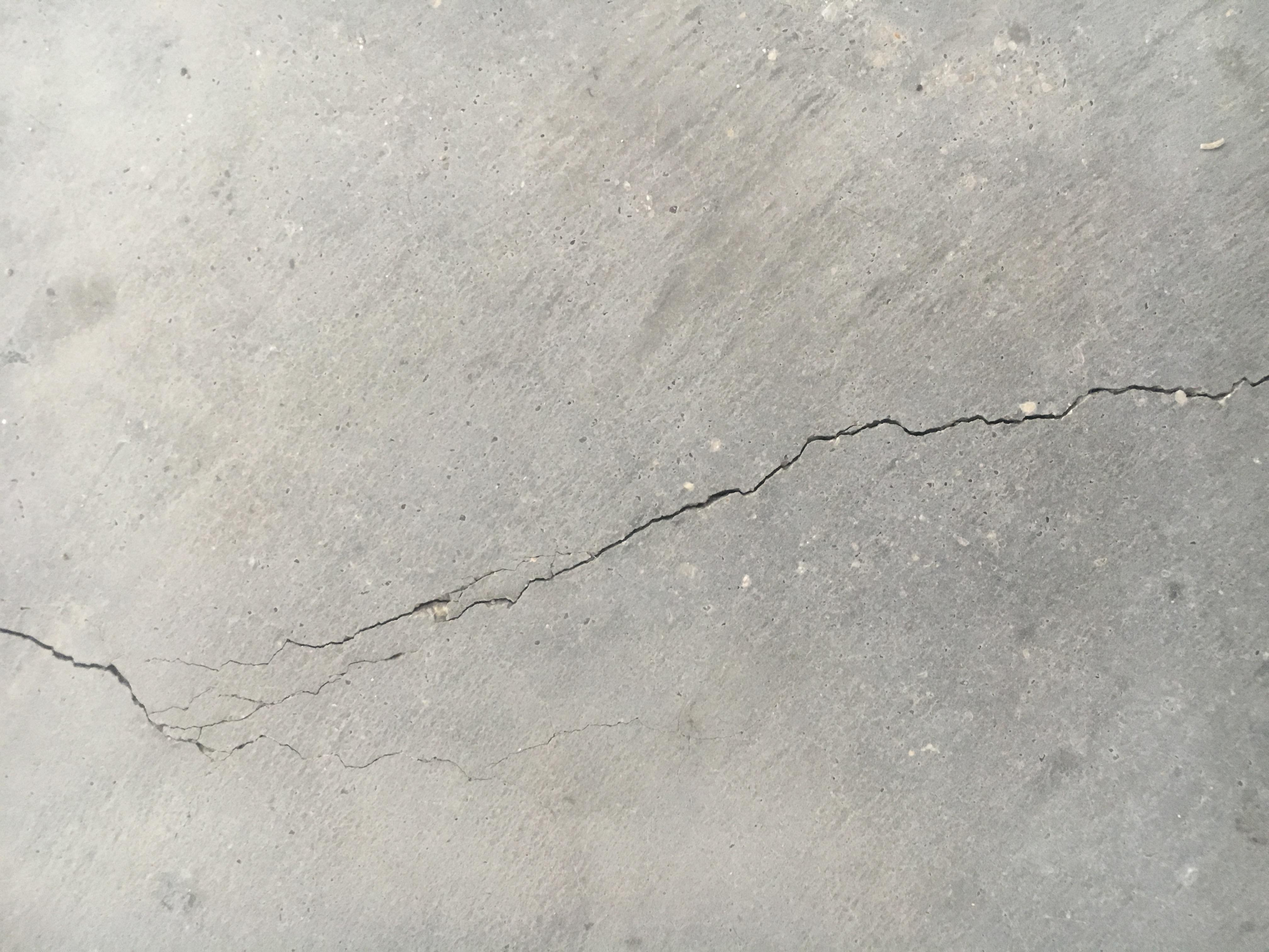Horizontal Settlement Crack: (4, 369, 1266, 777)
